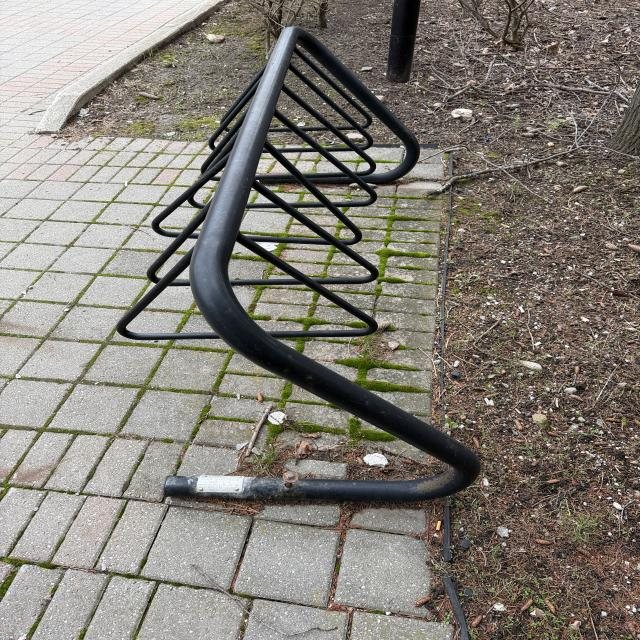Bicycle Rack: (117, 24, 481, 506)
